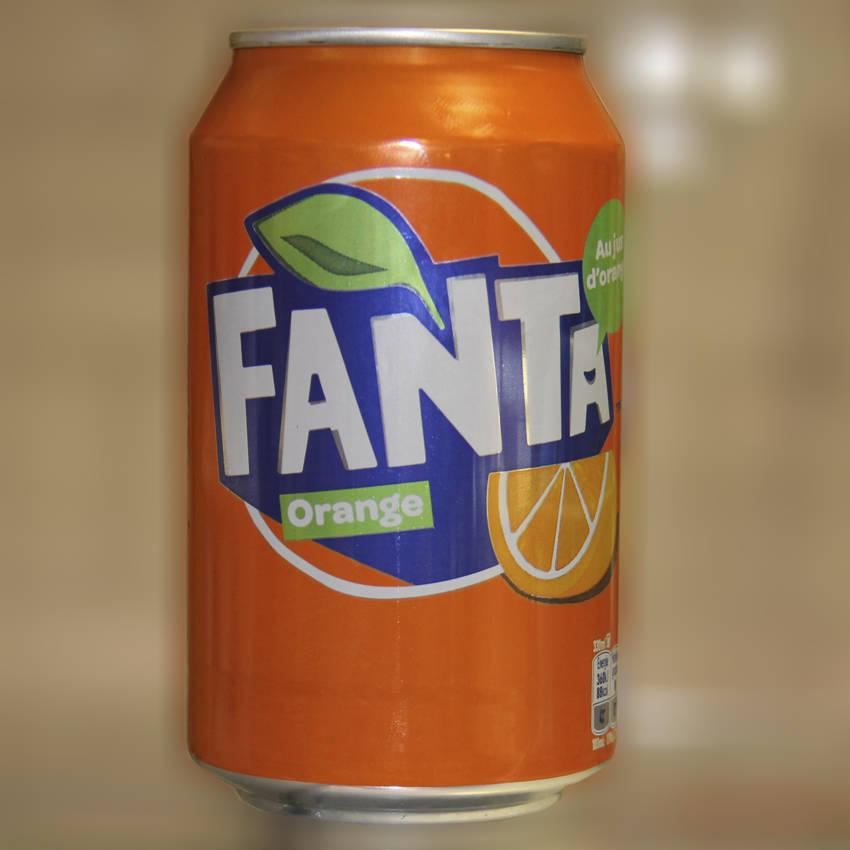metal: (189, 28, 625, 824)
